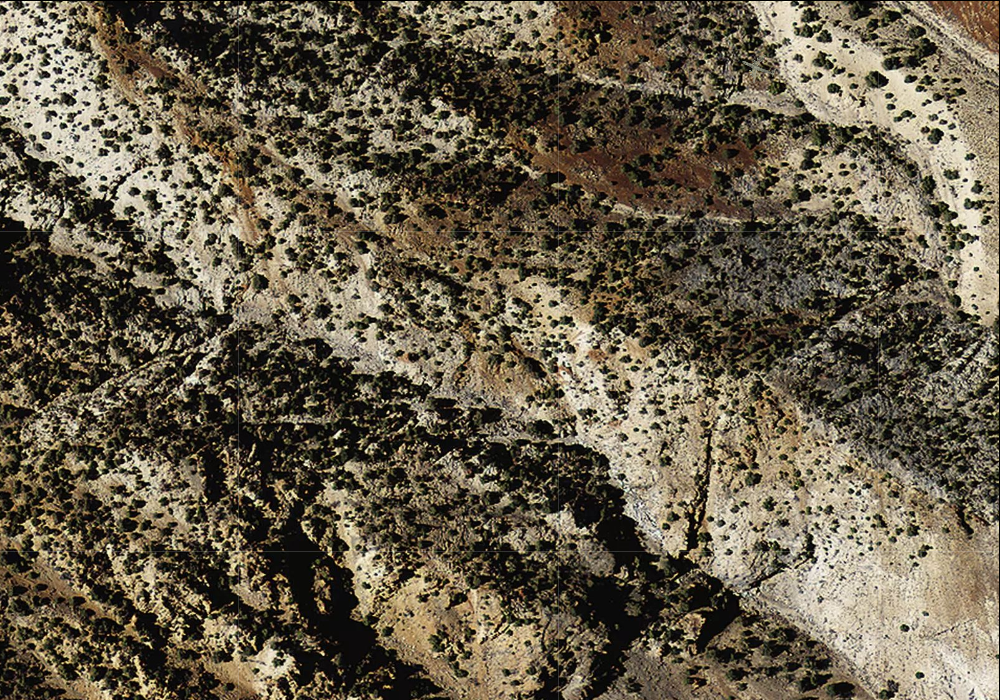plane: (735, 44, 781, 89)
